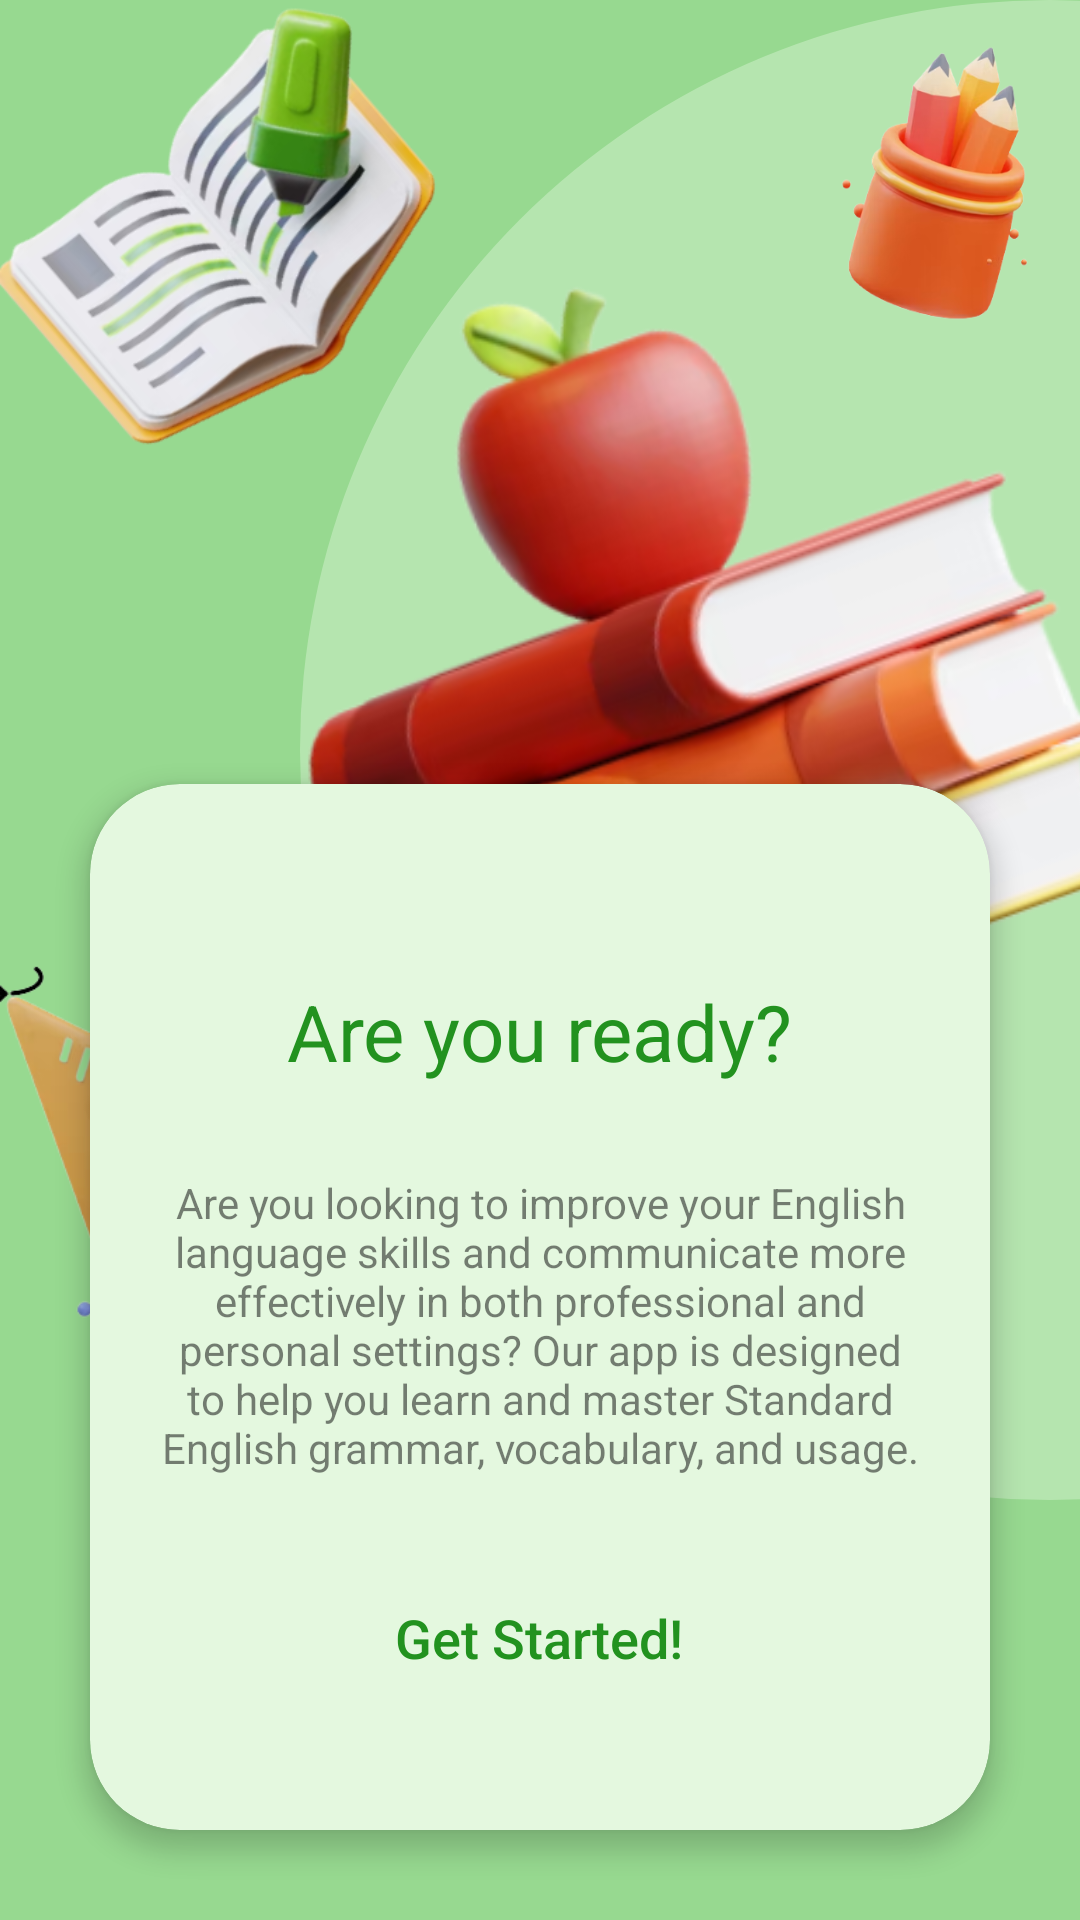

Locate icon controls on the screen. Image size 1080 × 1920, boxes as (x1, y1, x2, y2).
pen stand: (842, 48, 1027, 319)
